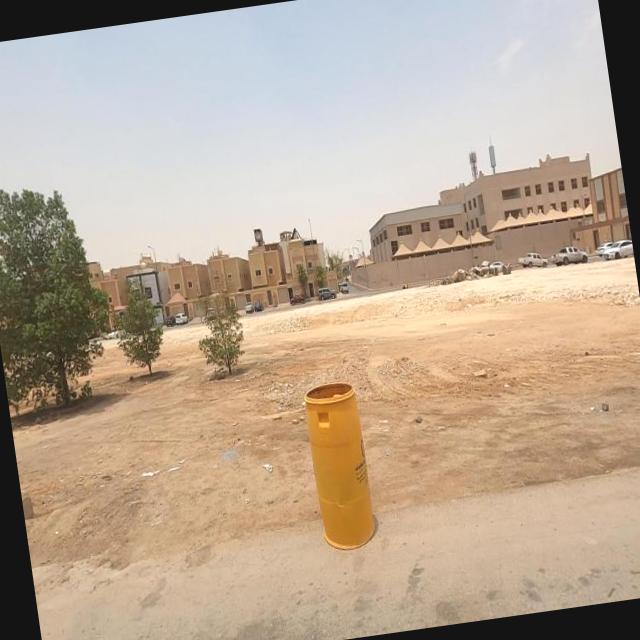debris: (104, 437, 212, 513), (191, 428, 266, 490), (244, 433, 296, 502)
